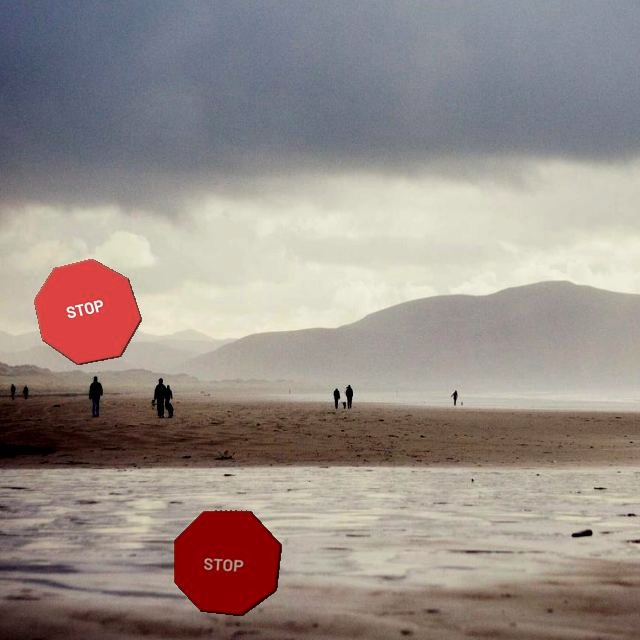STOP: (33, 258, 142, 365), (173, 510, 282, 616)
